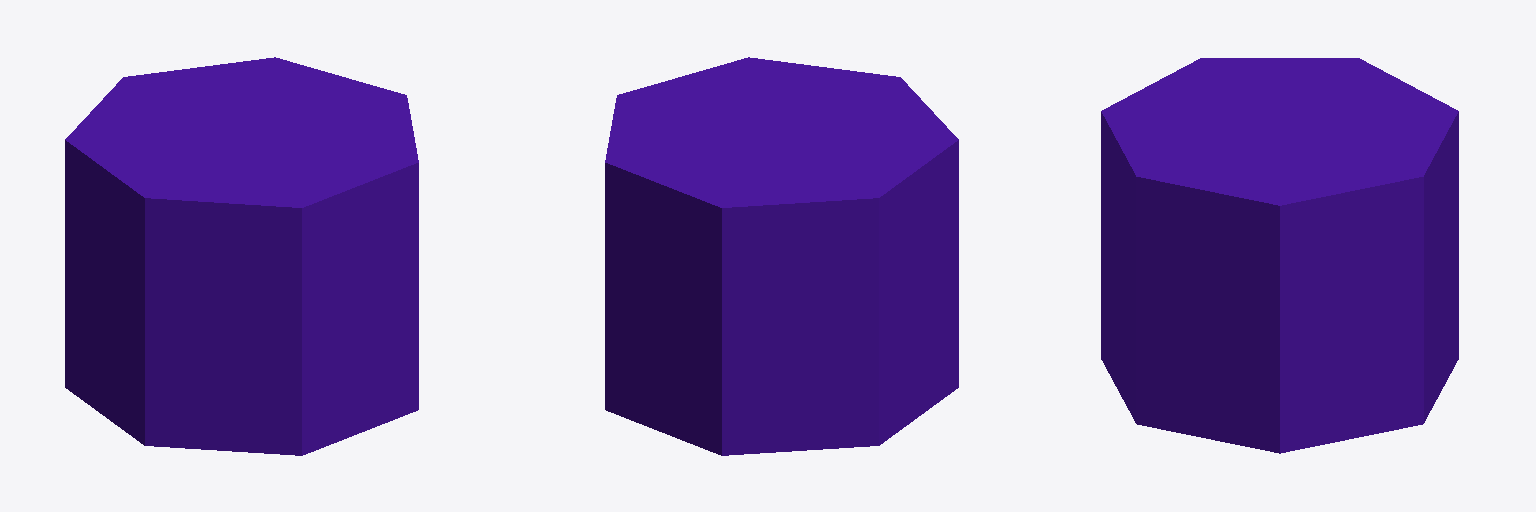
File: prism.obj
3 views of the same model, side by side, from view 1: azimuth 30°, elevation 25°; view 2: azimuth 150°, elevation 25°; view 3: azimuth 270°, elevation 25° (orthographic).
Parts seen in each view (by area): view 1: Cylinder001; view 2: Cylinder001; view 3: Cylinder001.
Part boxes in pixels (x1,y1,x2,y2): Cylinder001: (65,57,418,455); Cylinder001: (605,57,958,455); Cylinder001: (1101,58,1458,453).
Bounding box in the file's own units: 3.81 × 2.99 × 3.91.